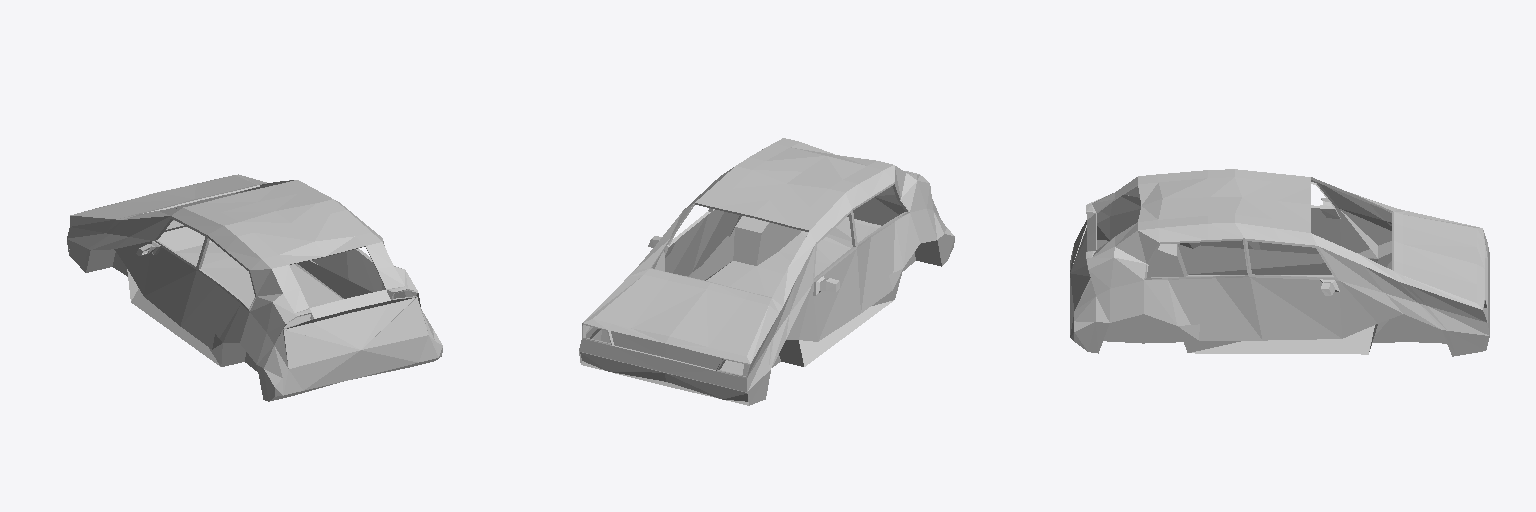
The model's file is carrocaria.obj.
The picture shows the model from 3 angles: view 1: azimuth 30°, elevation 25°; view 2: azimuth 150°, elevation 25°; view 3: azimuth 270°, elevation 25°; orthographic projection.
Parts seen in each view (by area): view 1: Carroçaria; view 2: Carroçaria; view 3: Carroçaria.
Part boxes in pixels (bbox=[...]): Carroçaria: bbox=[67, 174, 442, 401]; Carroçaria: bbox=[579, 138, 954, 405]; Carroçaria: bbox=[1070, 169, 1489, 356].
Size of the model in its own units: 1.84 by 1.12 by 3.56.